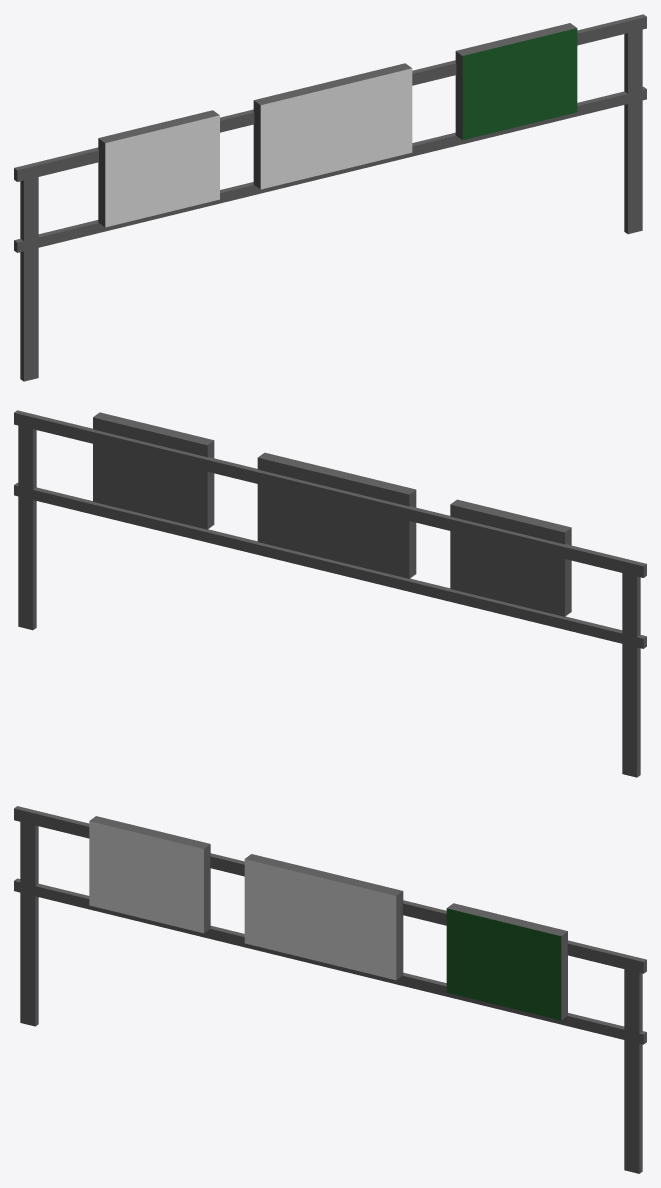
Rendered from road_signs.glb.
3 renders of one model, top to bottom at view 1: azimuth 30°, elevation 25°; view 2: azimuth 150°, elevation 25°; view 3: azimuth 330°, elevation 25°, orthographic.
Visible parts, largest first — view 1: road_signs; view 2: road_signs; view 3: road_signs.
Part boxes in pixels (left/top/right/bottom): road_signs: left=14, top=14, right=646, bottom=381; road_signs: left=14, top=410, right=646, bottom=777; road_signs: left=14, top=806, right=646, bottom=1173.
Bounding box in the file's own units: 152 × 51.97 × 4.07.
